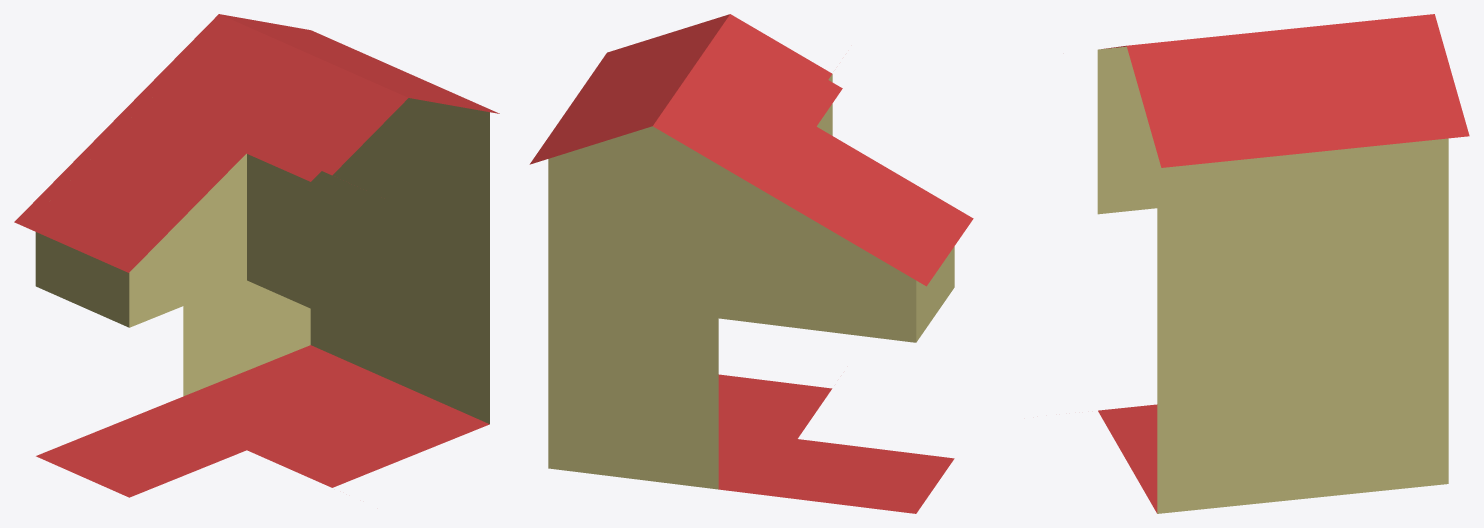
3 views of the same model, side by side, from view 1: azimuth 30°, elevation 25°; view 2: azimuth 150°, elevation 25°; view 3: azimuth 270°, elevation 25° (orthographic). The views are drawn at different scales.
Size of the model in its own units: 15.3 by 13.34 by 13.07.
